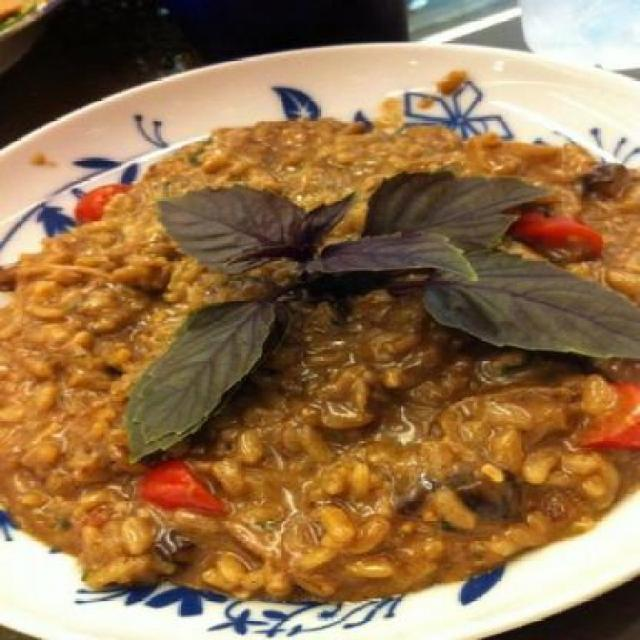Risotto: (27, 162, 615, 580)
